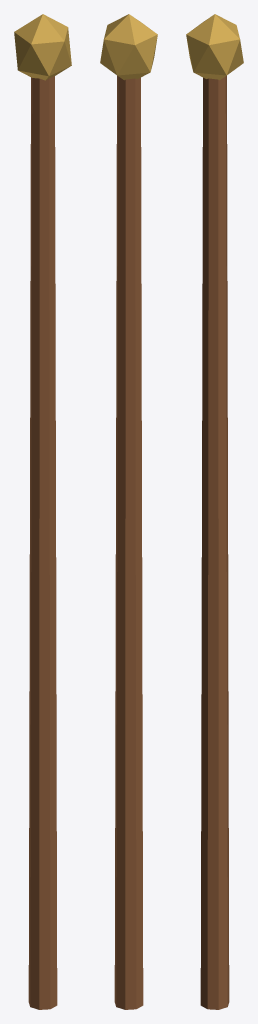
File: wk_prop_staff_v01.glb
3 renders of one model, left to right at view 1: azimuth 30°, elevation 25°; view 2: azimuth 210°, elevation 25°; view 3: azimuth 330°, elevation 25°, orthographic.
Parts seen in each view (by area): view 1: GEO_staff_Shaft, GEO_StaffCap; view 2: GEO_staff_Shaft, GEO_StaffCap; view 3: GEO_staff_Shaft, GEO_StaffCap.
Part boxes in pixels (x1,y1,x2,y2): GEO_staff_Shaft: [28, 76, 57, 1009]; GEO_StaffCap: [14, 14, 71, 80]; GEO_staff_Shaft: [114, 75, 143, 1009]; GEO_StaffCap: [100, 14, 157, 80]; GEO_staff_Shaft: [200, 75, 229, 1009]; GEO_StaffCap: [186, 14, 243, 80].
Size of the model in its own units: 0.0984 by 1.85 by 0.0936.
